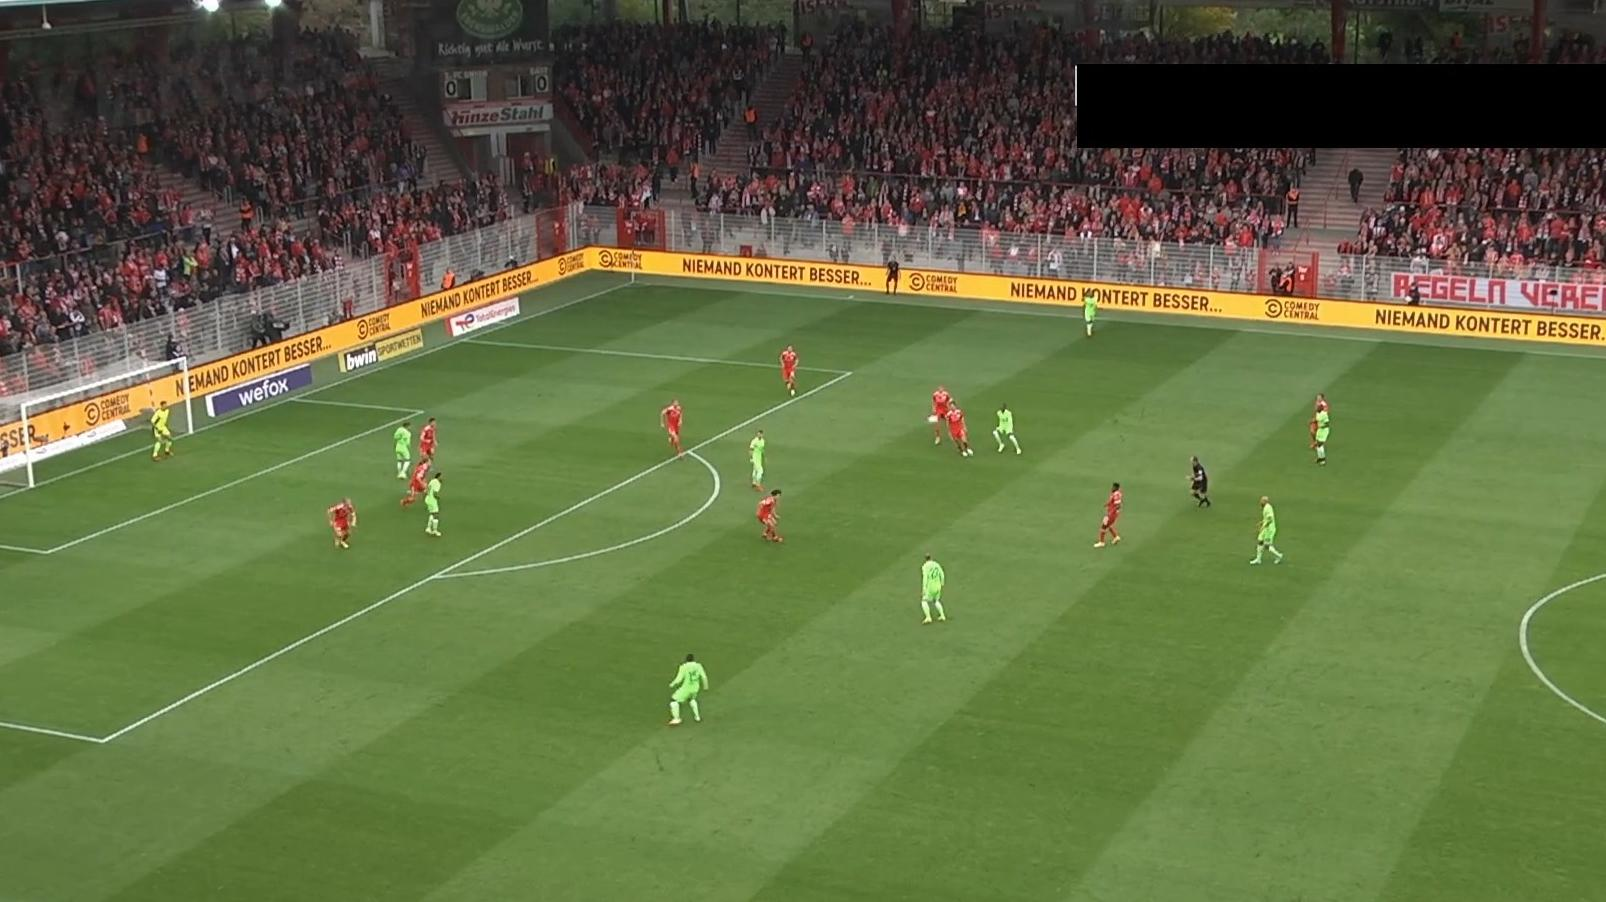ball: (924, 412, 940, 426)
